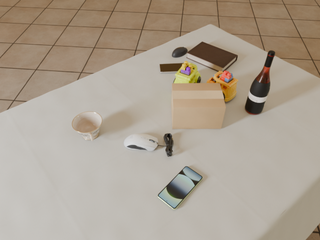book: (187, 42, 238, 72)
bottle: (245, 51, 275, 115)
box: (171, 83, 226, 129)
cup: (72, 111, 102, 141)
mouse: (124, 134, 160, 151), (172, 47, 187, 57)
phone: (158, 166, 203, 210), (160, 63, 183, 73)
toy_car: (207, 71, 238, 102), (173, 61, 201, 83)
